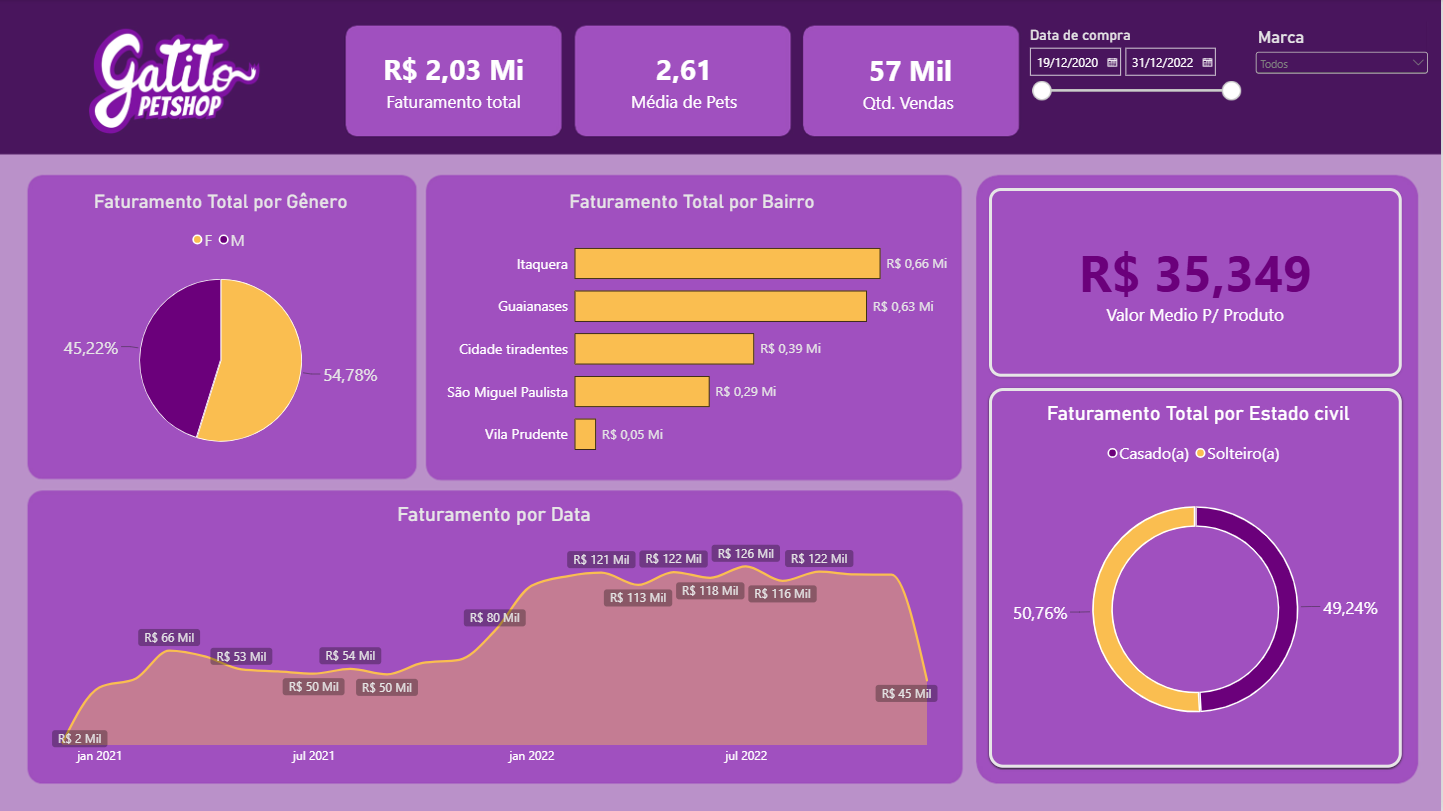

Layout of this report page (visuals, bound fields, positions):
{"tool":"powerbi","page":{"name":"Página 1","canvas":[1920,1080],"ordinal":0},"visuals":[{"type":"card","fields":{"Values":["Vendas.Faturamento total"]},"box":[461.5,36.3,289,145.2],"z":0},{"type":"card","fields":{"Values":["Sum(Vendas.Quantidade)"]},"box":[1072.2,36.7,283.3,145.6],"z":1000},{"type":"card","fields":{"Values":["Vendas.Valor_medio_Por_Produto"]},"box":[1318.3,251,548.8,251],"z":2000},{"type":"pieChart","title":"Faturamento Total por Gênero","fields":{"Category":["Clientes.Gênero"],"Y":["Vendas.Faturamento total"]},"box":[39.3,238.9,512.5,400.6],"z":3000},{"type":"areaChart","title":"Faturamento por Data","fields":{"Category":["Vendas.Data de compra.Variation.Hierarquia de datas.Ano","Vendas.Data de compra.Variation.Hierarquia de datas.Trimestre","Vendas.Data de compra.Variation.Hierarquia de datas.Mês","Vendas.Data de compra.Variation.Hierarquia de datas.Dia"],"Y":["Vendas.Faturamento total"]},"box":[39.3,656.1,1239.7,382.5],"z":4000},{"type":"slicer","fields":{"Values":["Produtos.Marca"]},"box":[1667.5,37.8,238.9,161.8],"z":5000},{"type":"slicer","fields":{"Values":["Vendas.Data de compra"]},"box":[1365.2,36.3,291.8,163.3],"z":6000},{"type":"clusteredBarChart","title":"Faturamento Total por Bairro","fields":{"Category":["Clientes.Bairro"],"Y":["Vendas.Faturamento total"]},"box":[568.4,238.9,710.6,400.6],"z":7000},{"type":"card","fields":{"Values":["Avg(Clientes.Pets)"]},"box":[768.6,36.3,287.5,145.2],"z":8000},{"type":"donutChart","title":"Faturamento Total por Estado civil","fields":{"Category":["Clientes.Estado civil"],"Y":["Vendas.Faturamento total"]},"box":[1318.3,517,548.8,504.9],"z":9000}]}

Visuals, with their boxes in screenshot pixels (x1, y1, x2, y2), scaled from the page's 1920x1080 canvas onto the 1443x811 screenshot:
card - Vendas.Faturamento total: (x1=347, y1=27, x2=564, y2=136)
card - Sum(Vendas.Quantidade): (x1=806, y1=28, x2=1019, y2=137)
card - Vendas.Valor_medio_Por_Produto: (x1=991, y1=188, x2=1403, y2=377)
"Faturamento Total por Gênero" pieChart: (x1=30, y1=179, x2=415, y2=480)
"Faturamento por Data" areaChart: (x1=30, y1=493, x2=961, y2=780)
slicer - Produtos.Marca: (x1=1253, y1=28, x2=1433, y2=150)
slicer - Vendas.Data de compra: (x1=1026, y1=27, x2=1245, y2=150)
"Faturamento Total por Bairro" clusteredBarChart: (x1=427, y1=179, x2=961, y2=480)
card - Avg(Clientes.Pets): (x1=578, y1=27, x2=794, y2=136)
"Faturamento Total por Estado civil" donutChart: (x1=991, y1=388, x2=1403, y2=767)
